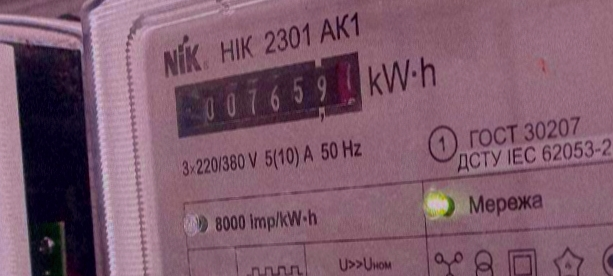0: (204, 91, 217, 119), (225, 89, 238, 116)
1: (342, 60, 355, 91)
5: (290, 73, 306, 105)
6: (269, 80, 282, 111)
7: (246, 82, 260, 115)
9: (314, 69, 330, 104)
screen: (160, 43, 383, 142)
